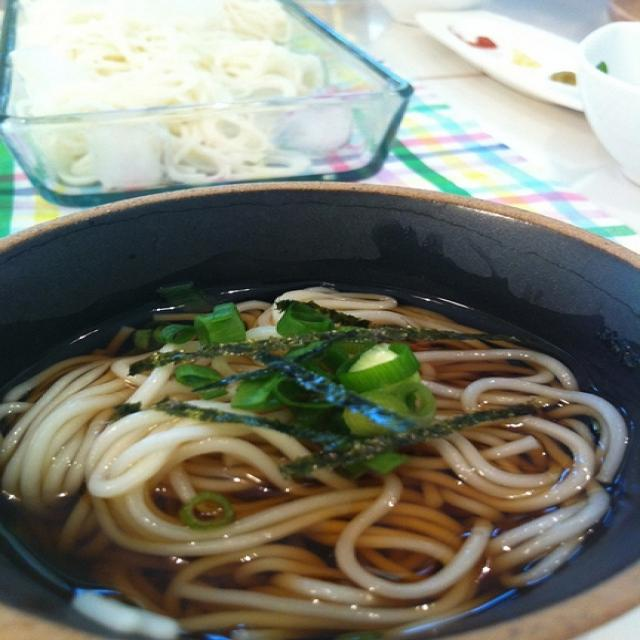面条主食: (19, 250, 618, 597)
